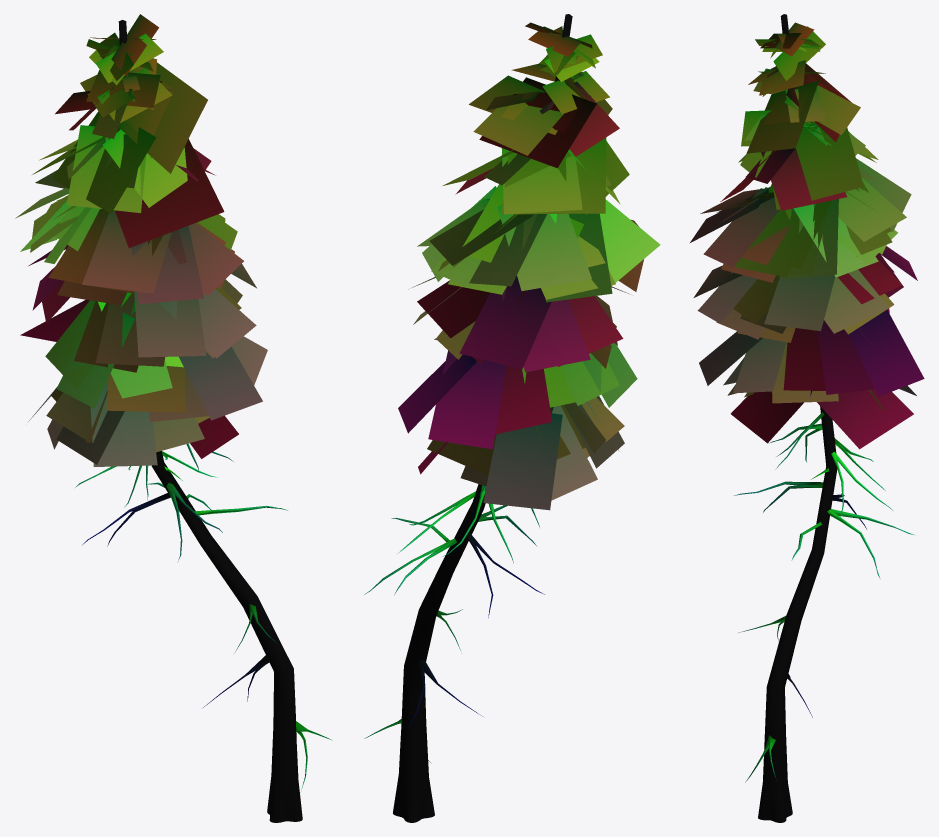
The model's file is M_Pine_4_16.fbx.
3 renders of one model, left to right at view 1: azimuth 30°, elevation 25°; view 2: azimuth 150°, elevation 25°; view 3: azimuth 270°, elevation 25°, orthographic. The views are drawn at different scales.
Parts seen in each view (by area): view 1: Tree_16; view 2: Tree_16; view 3: Tree_16.
Part boxes in pixels (bbox=[...]): Tree_16: bbox=[15, 14, 332, 822]; Tree_16: bbox=[364, 14, 660, 822]; Tree_16: bbox=[689, 14, 924, 822].
Size of the model in its own units: 1138 by 3149 by 915.
